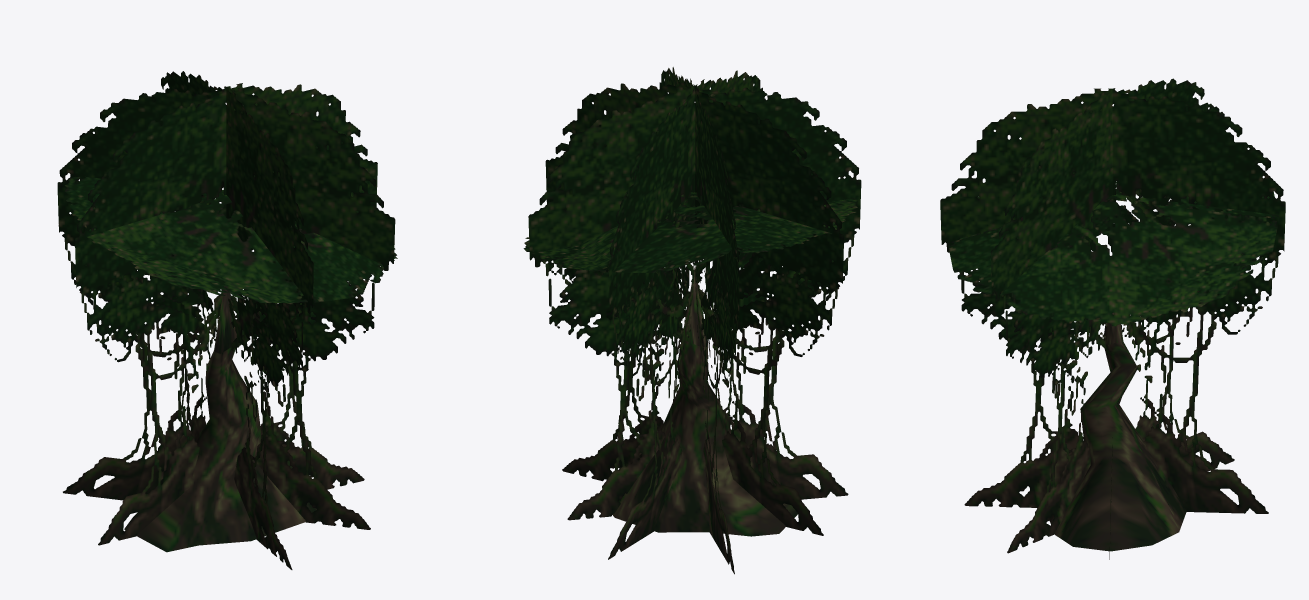
File: jungle_tree.obj
The picture shows the model from 3 angles, left to right: view 1: azimuth 30°, elevation 25°; view 2: azimuth 150°, elevation 25°; view 3: azimuth 270°, elevation 25°; orthographic projection.
Visible parts, largest first — view 1: jungle_tree; view 2: jungle_tree; view 3: jungle_tree.
Boxes of the visible parts, x1,y1,x2,y2 form: jungle_tree: (57,71,397,569); jungle_tree: (523,67,861,574); jungle_tree: (940,78,1285,559).
Bounding box in the file's own units: 17.58 × 22.83 × 17.57.
Materials: 1 (1 with a texture image).
